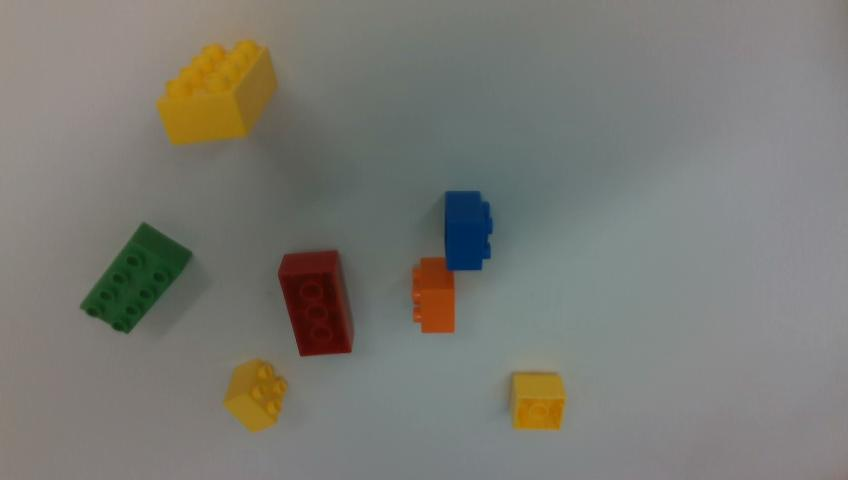2x2_blue: (445, 191, 491, 270)
2x2_orange: (412, 257, 453, 332)
2x2_yellow: (223, 359, 286, 432), (511, 372, 566, 429)
4x2_green: (80, 223, 191, 333)
4x2_red: (279, 250, 353, 355)
4x2_yellow: (156, 40, 276, 144)
